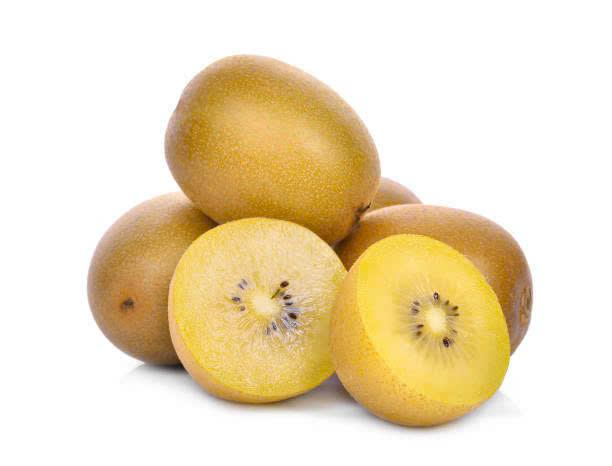kiwi: (163, 50, 380, 211), (330, 234, 510, 425), (165, 209, 327, 403)
